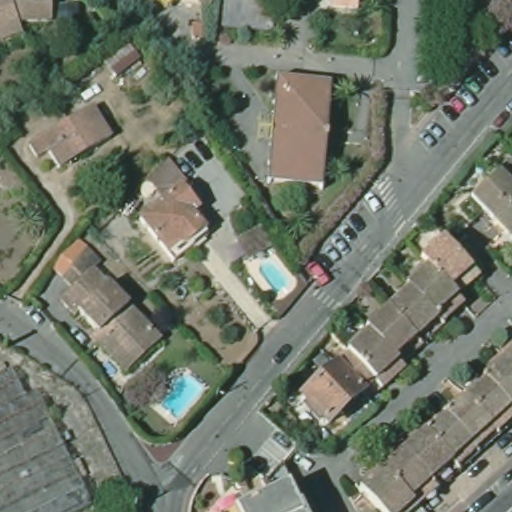pool: (158, 371, 206, 419), (257, 260, 293, 295)
